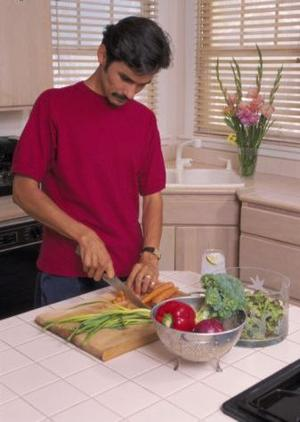person: (12, 16, 172, 310)
